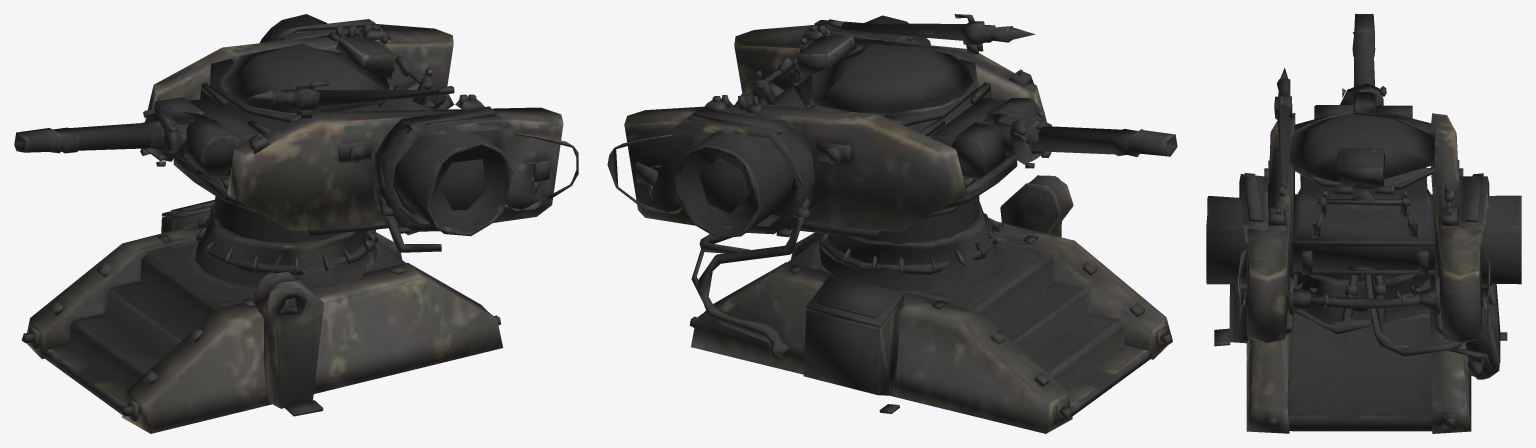
The model's file is l_deadturret.glb.
The picture shows the model from 3 angles, left to right: view 1: azimuth 30°, elevation 25°; view 2: azimuth 150°, elevation 25°; view 3: azimuth 270°, elevation 25°; orthographic projection. The views are drawn at different scales.
Size of the model in its own units: 0.9575 by 0.5484 by 0.5962.
Materials: 1 (1 with a texture image).
